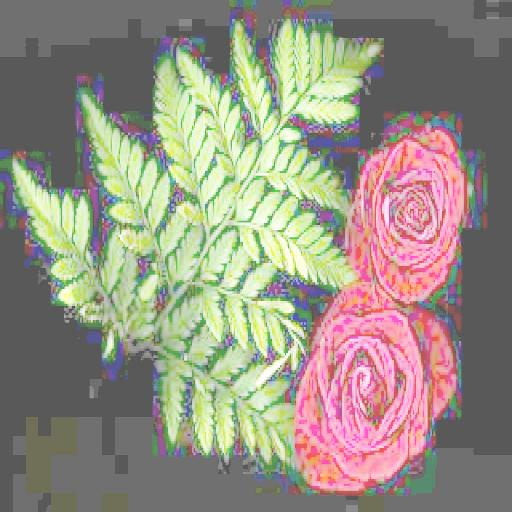rose: (299, 282, 456, 488), (350, 123, 469, 299)
